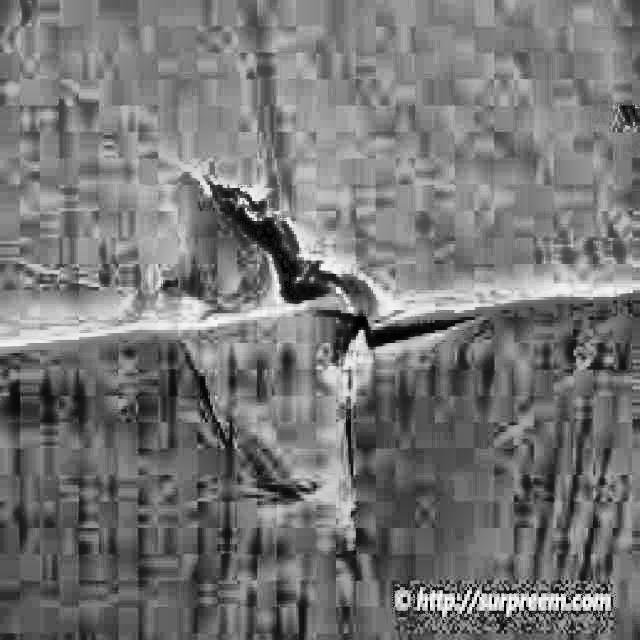box: (0, 0, 640, 640)
hole: (209, 184, 485, 364)
